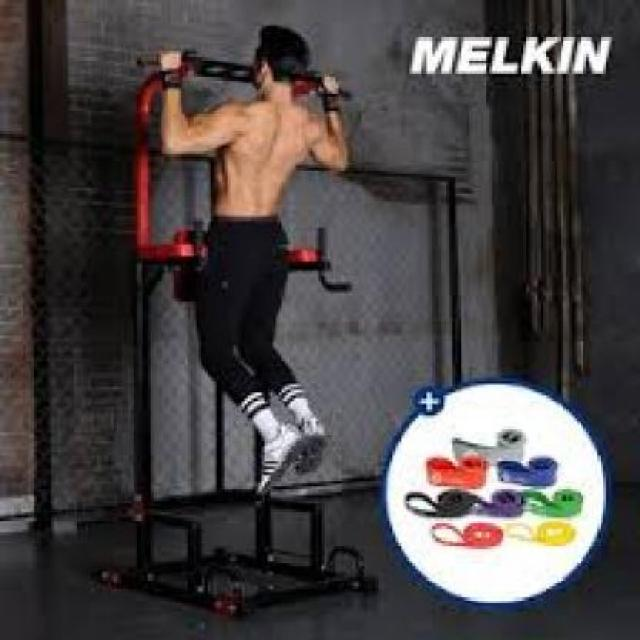chinning dipping: (92, 46, 377, 620)
